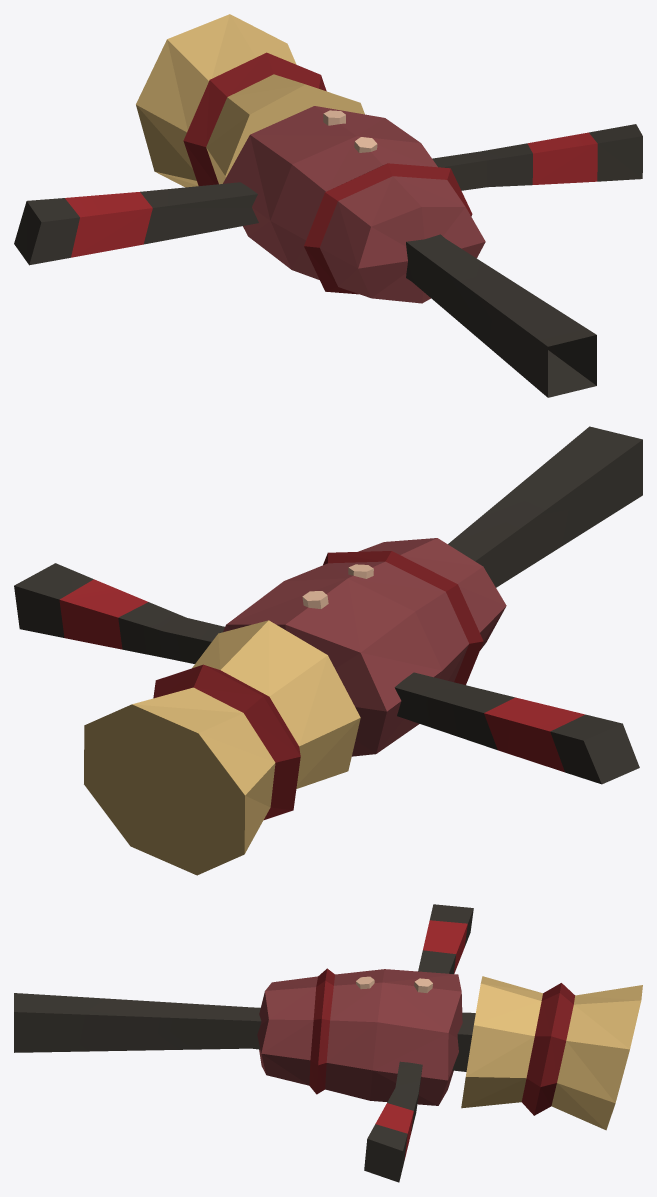
The model's file is Practice Target 01.FBX.
3 renders of one model, top to bottom at view 1: azimuth 30°, elevation 25°; view 2: azimuth 150°, elevation 25°; view 3: azimuth 270°, elevation 25°, orthographic. The views are drawn at different scales.
Visible parts, largest first — view 1: Practice Target 01; view 2: Practice Target 01; view 3: Practice Target 01.
Boxes of the visible parts, left/top/right/bottom form: Practice Target 01: left=14, top=14, right=642, bottom=397; Practice Target 01: left=14, top=426, right=642, bottom=875; Practice Target 01: left=14, top=904, right=642, bottom=1182.
Size of the model in its own units: 155 by 43.08 by 179.
